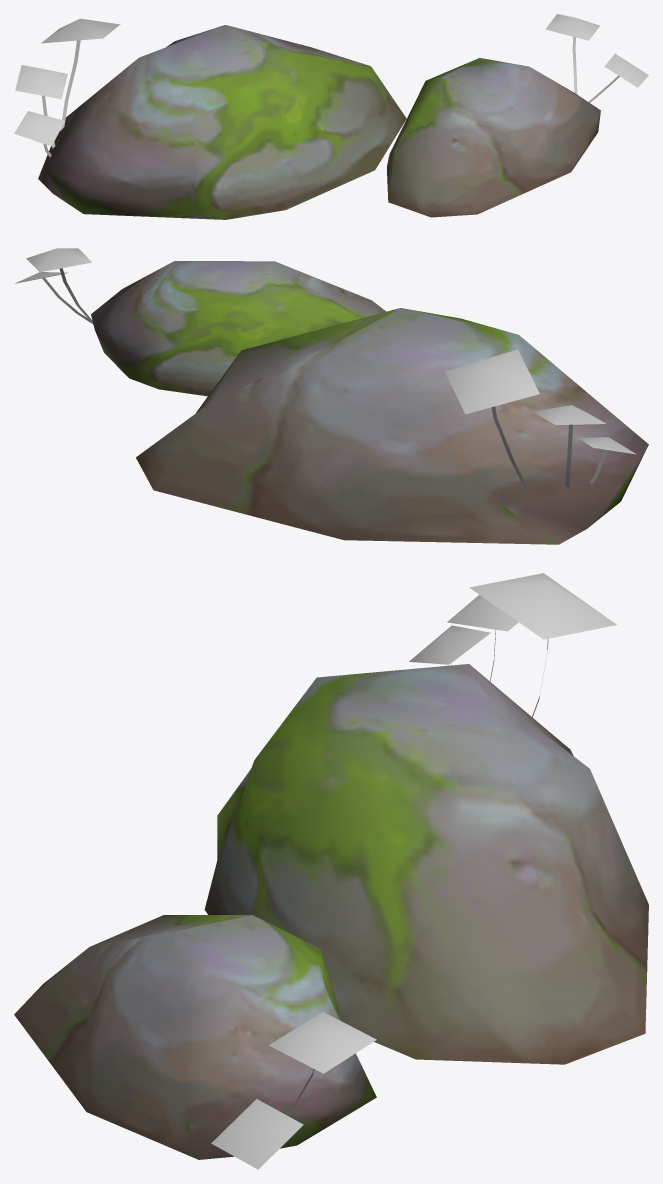
The model's file is Map_05_stone03.FBX.
The picture shows the model from 3 angles, top to bottom: view 1: azimuth 30°, elevation 25°; view 2: azimuth 150°, elevation 25°; view 3: azimuth 270°, elevation 25°; orthographic projection. The views are drawn at different scales.
Visible parts, largest first — view 1: Map_05_stone03a, Map_05_stone03b; view 2: Map_05_stone03a, Map_05_stone03b; view 3: Map_05_stone03a, Map_05_stone03b.
Part boxes in pixels (x1=…): Map_05_stone03a: x1=38, y1=25, x2=600, y2=219; Map_05_stone03b: x1=14, y1=14, x2=648, y2=157; Map_05_stone03a: x1=91, y1=261, x2=648, y2=544; Map_05_stone03b: x1=15, y1=248, x2=636, y2=489; Map_05_stone03a: x1=14, y1=664, x2=648, y2=1159; Map_05_stone03b: x1=211, y1=573, x2=616, y2=1169.
Size of the model in its own units: 191 by 45.89 by 108.
